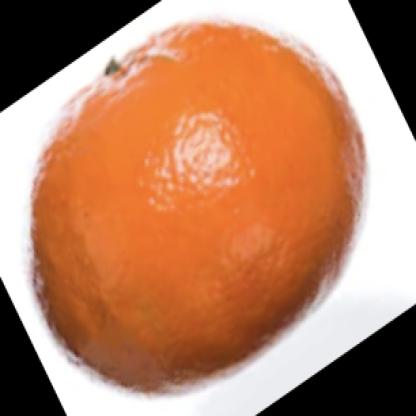fresh: (30, 24, 365, 391)
